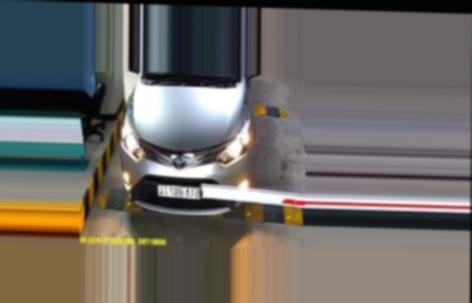License_Plate: (156, 183, 210, 199)
